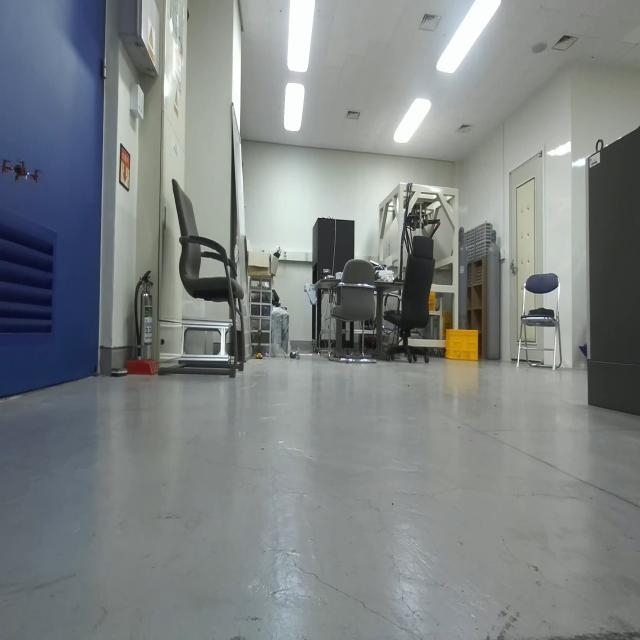crazyflie: (1, 150, 46, 191)
